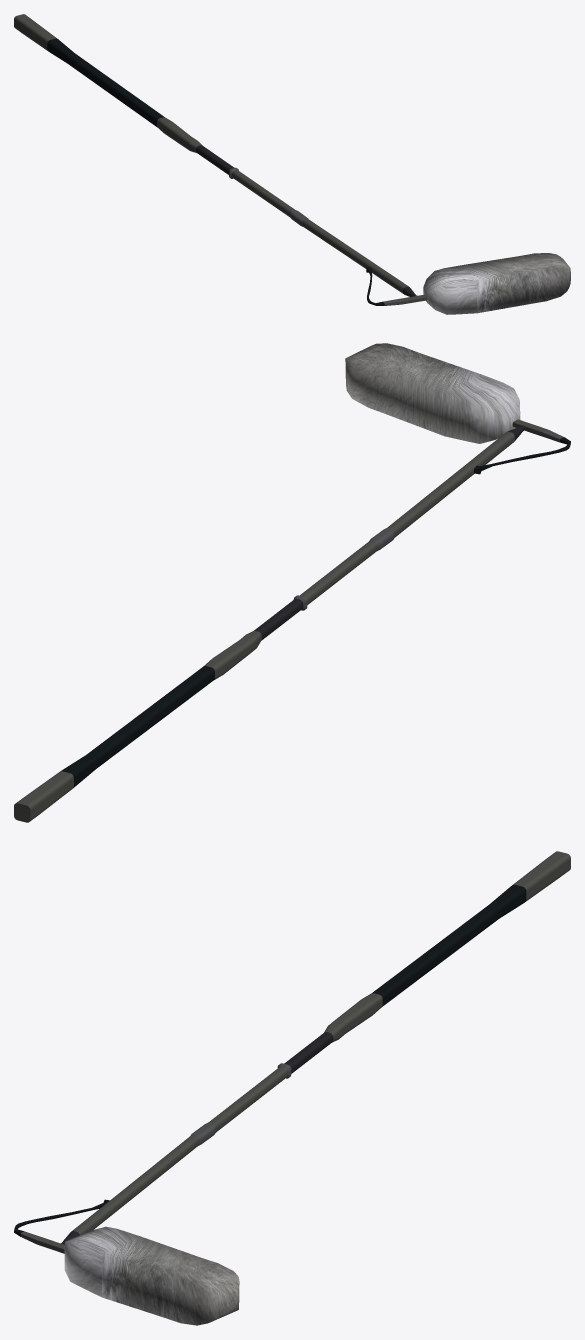
The model's file is WorldItem_BoomMic.fbx.
3 views of the same model, one above another, from view 1: azimuth 30°, elevation 25°; view 2: azimuth 150°, elevation 25°; view 3: azimuth 330°, elevation 25° (orthographic). The views are drawn at different scales.
Visible parts, largest first — view 1: Cube; view 2: Cube; view 3: Cube.
Part boxes in pixels (left/top/right/bottom): Cube: left=14, top=14, right=570, bottom=314; Cube: left=14, top=343, right=570, bottom=822; Cube: left=14, top=851, right=570, bottom=1325.
Size of the model in its own units: 127 by 22.57 by 494.
